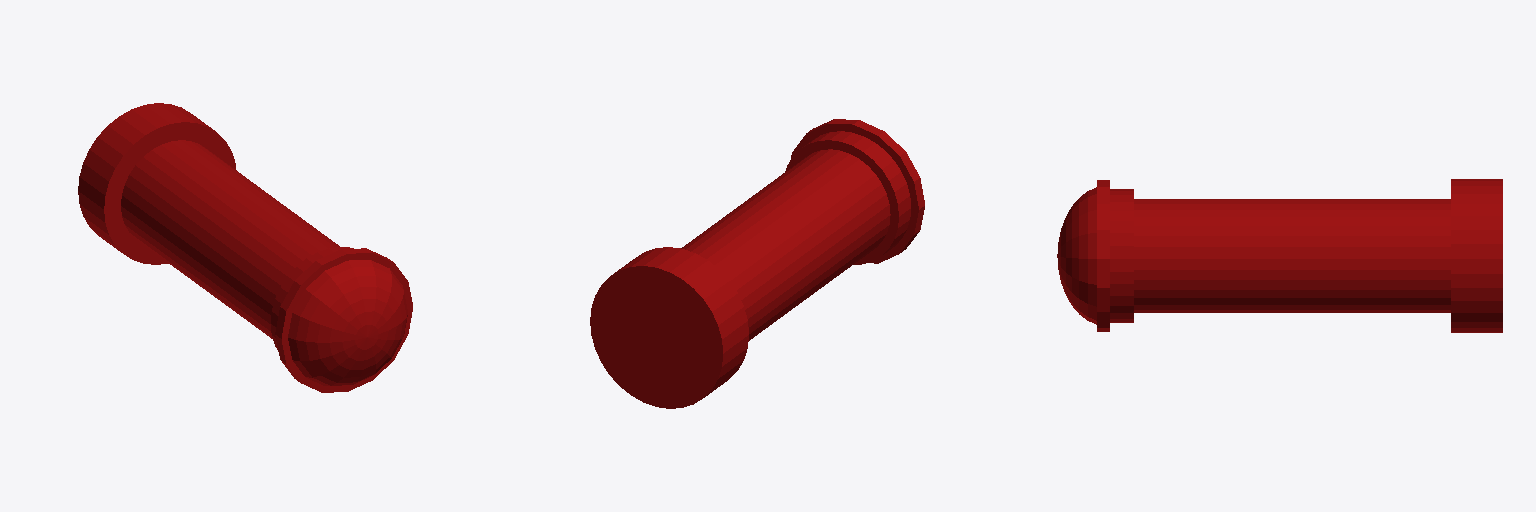
Rendered from bombeoRojo.obj.
3 views of the same model, side by side, from view 1: azimuth 30°, elevation 25°; view 2: azimuth 150°, elevation 25°; view 3: azimuth 270°, elevation 25° (orthographic).
Parts seen in each view (by area): view 1: Cylinder.001, Sphere_Sphere.001; view 2: Cylinder.001, Sphere_Sphere.001; view 3: Cylinder.001, Sphere_Sphere.001.
Boxes of the visible parts, x1=… form: Cylinder.001: x1=78, y1=103, x2=353, y2=351; Sphere_Sphere.001: x1=275, y1=248, x2=412, y2=392; Cylinder.001: x1=590, y1=131, x2=910, y2=408; Sphere_Sphere.001: x1=791, y1=119, x2=924, y2=263; Cylinder.001: x1=1110, y1=179, x2=1502, y2=332; Sphere_Sphere.001: x1=1057, y1=180, x2=1109, y2=331.
Bounding box in the file's own units: 2.92 × 2.92 × 8.46.